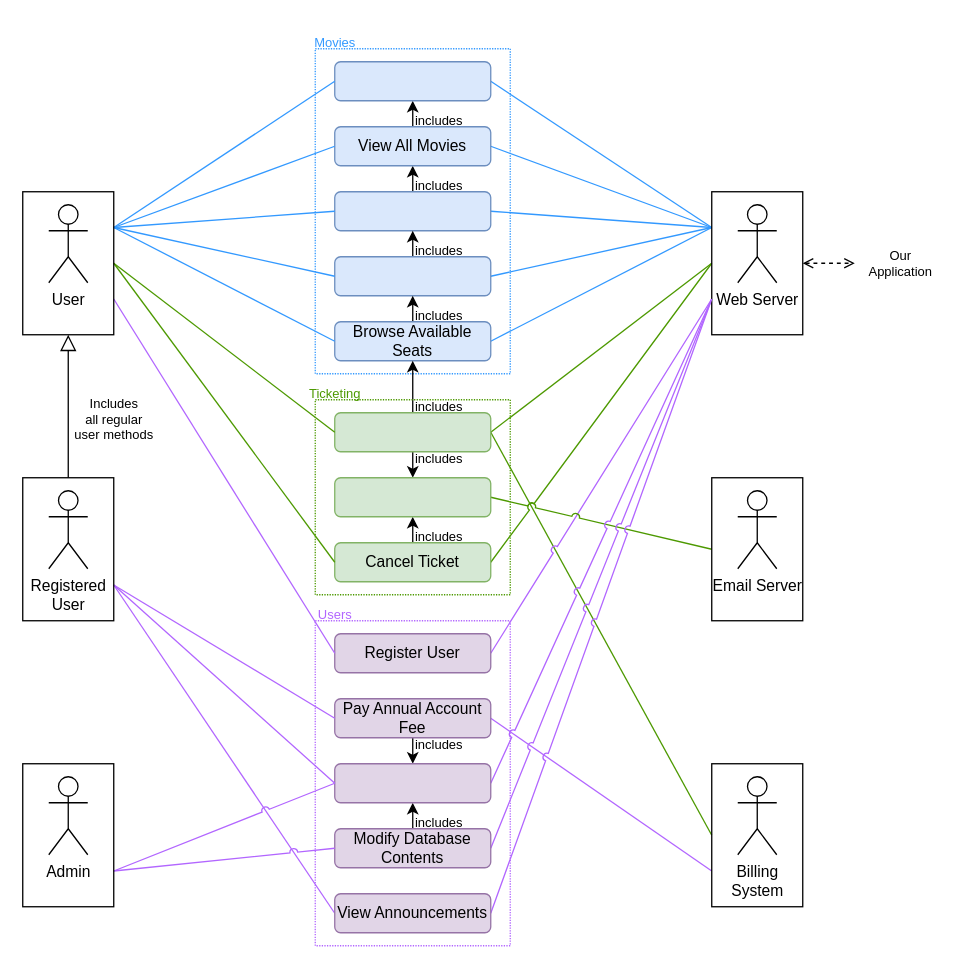
This 968x968 diagram has some shape labels left out. The shapes that lost their labels are listed below. From the top down, each one's centre as x and y in pixels, then its label:
point (412, 80): Select Theater
point (412, 210): Select Movie
point (412, 275): View Show Times
point (412, 431): Purchase Ticket
point (412, 496): Receive Email Receipt
point (412, 782): Login
